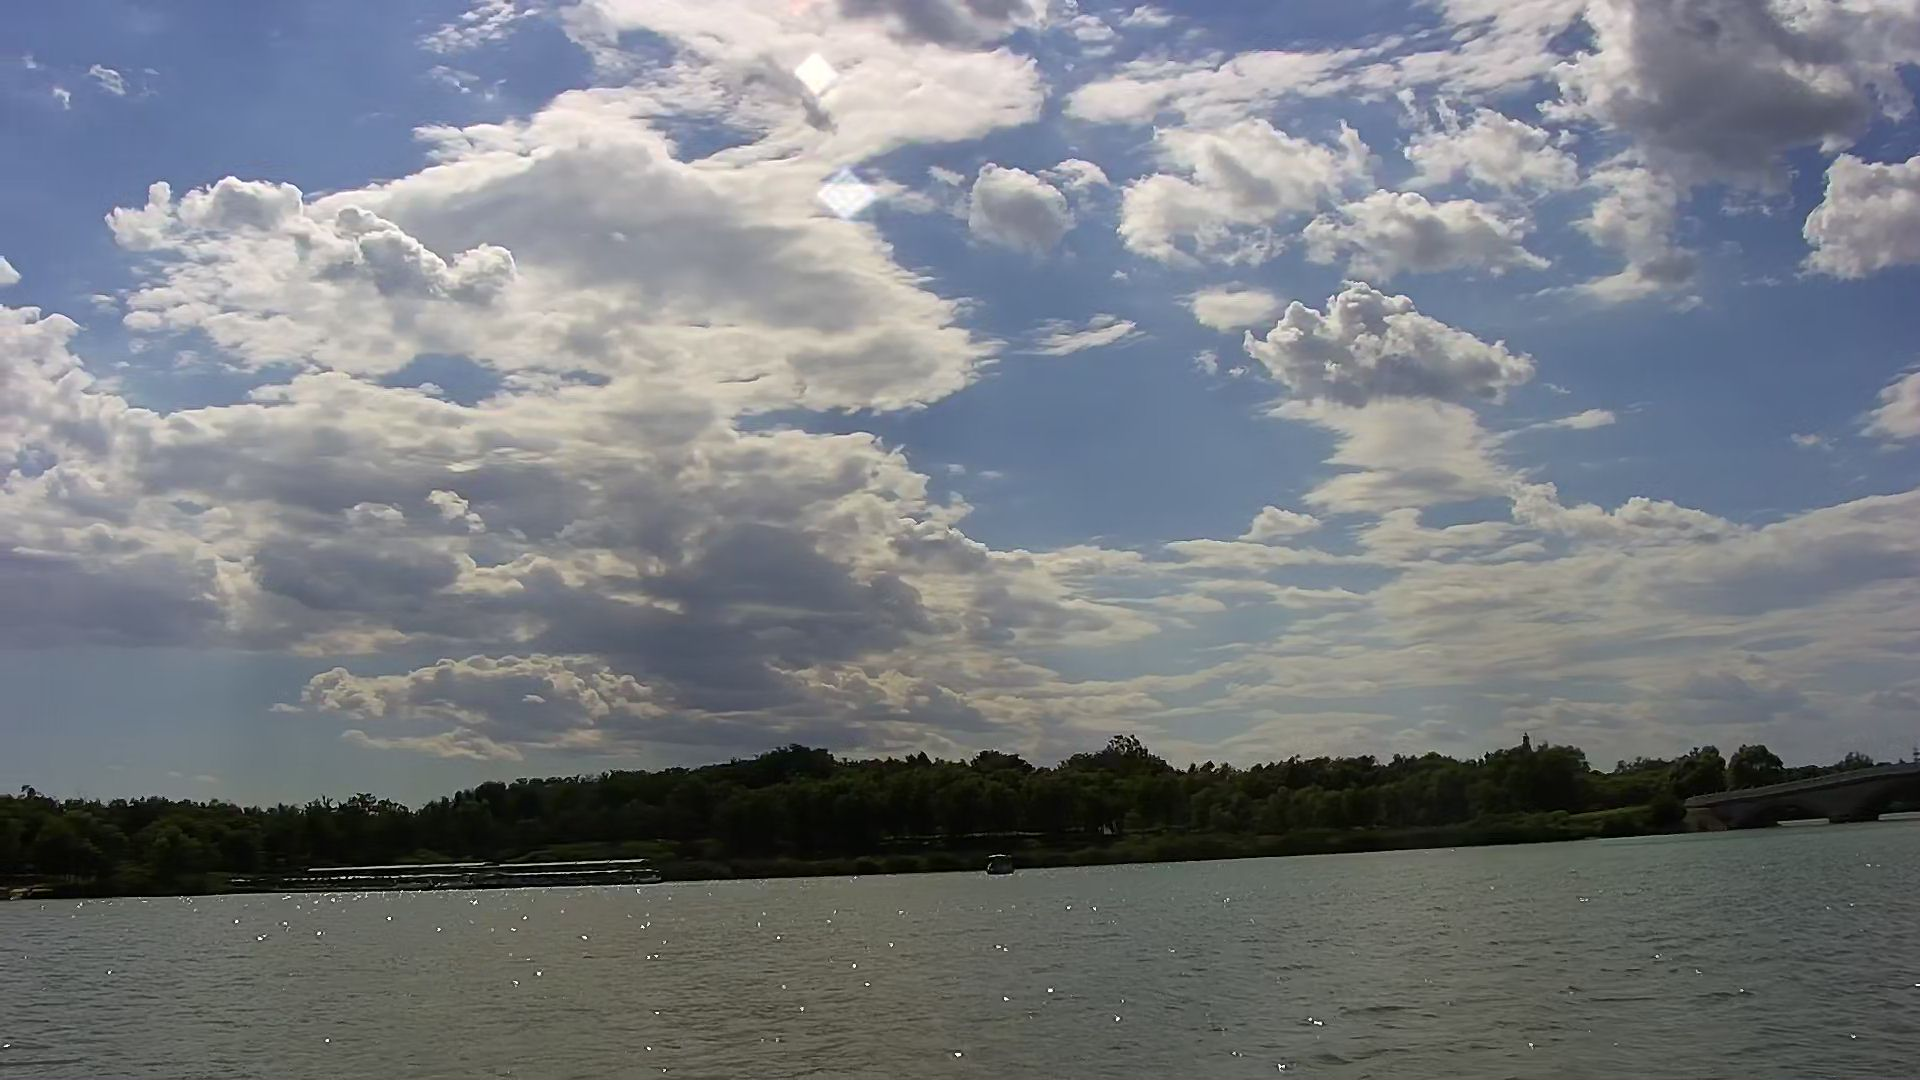boat: (981, 847, 1023, 881)
bridge: (1695, 746, 1920, 827)
harbor: (305, 855, 659, 895)
